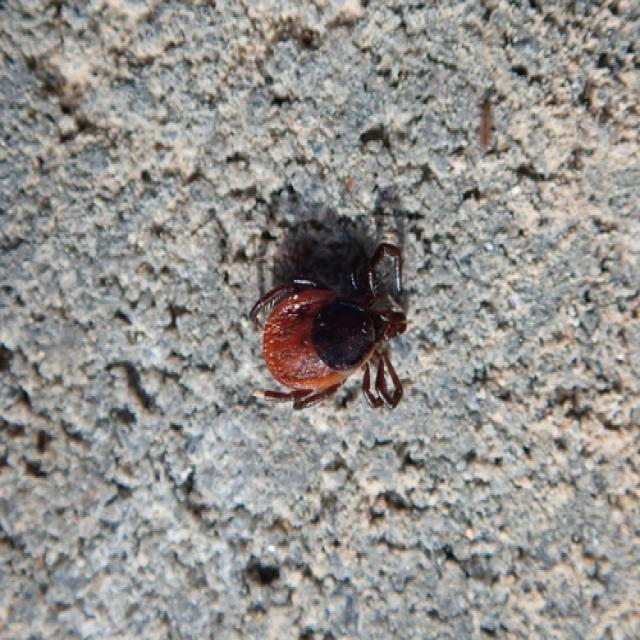Ixodes Ricinus-F: (247, 234, 410, 410)
